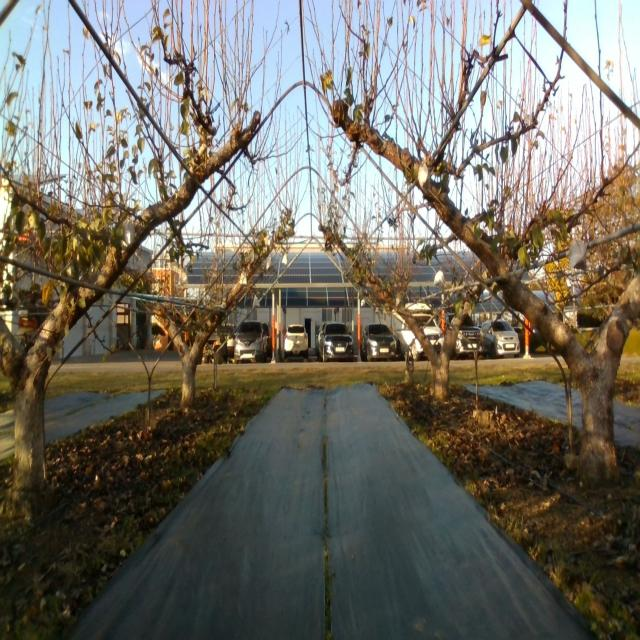pearbags: (570, 238, 588, 272), (417, 162, 430, 194), (122, 220, 136, 244), (434, 270, 445, 286)
